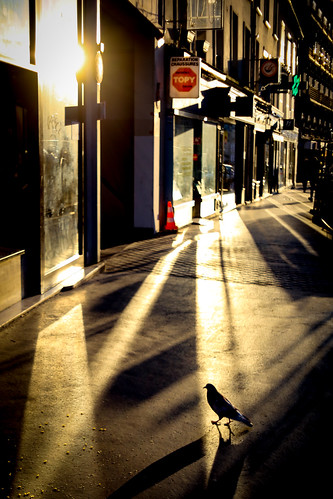animal: (191, 377, 266, 438)
building: (127, 1, 296, 225), (1, 1, 93, 302)
sign: (168, 55, 202, 100)
traffic cone: (157, 198, 182, 235)
